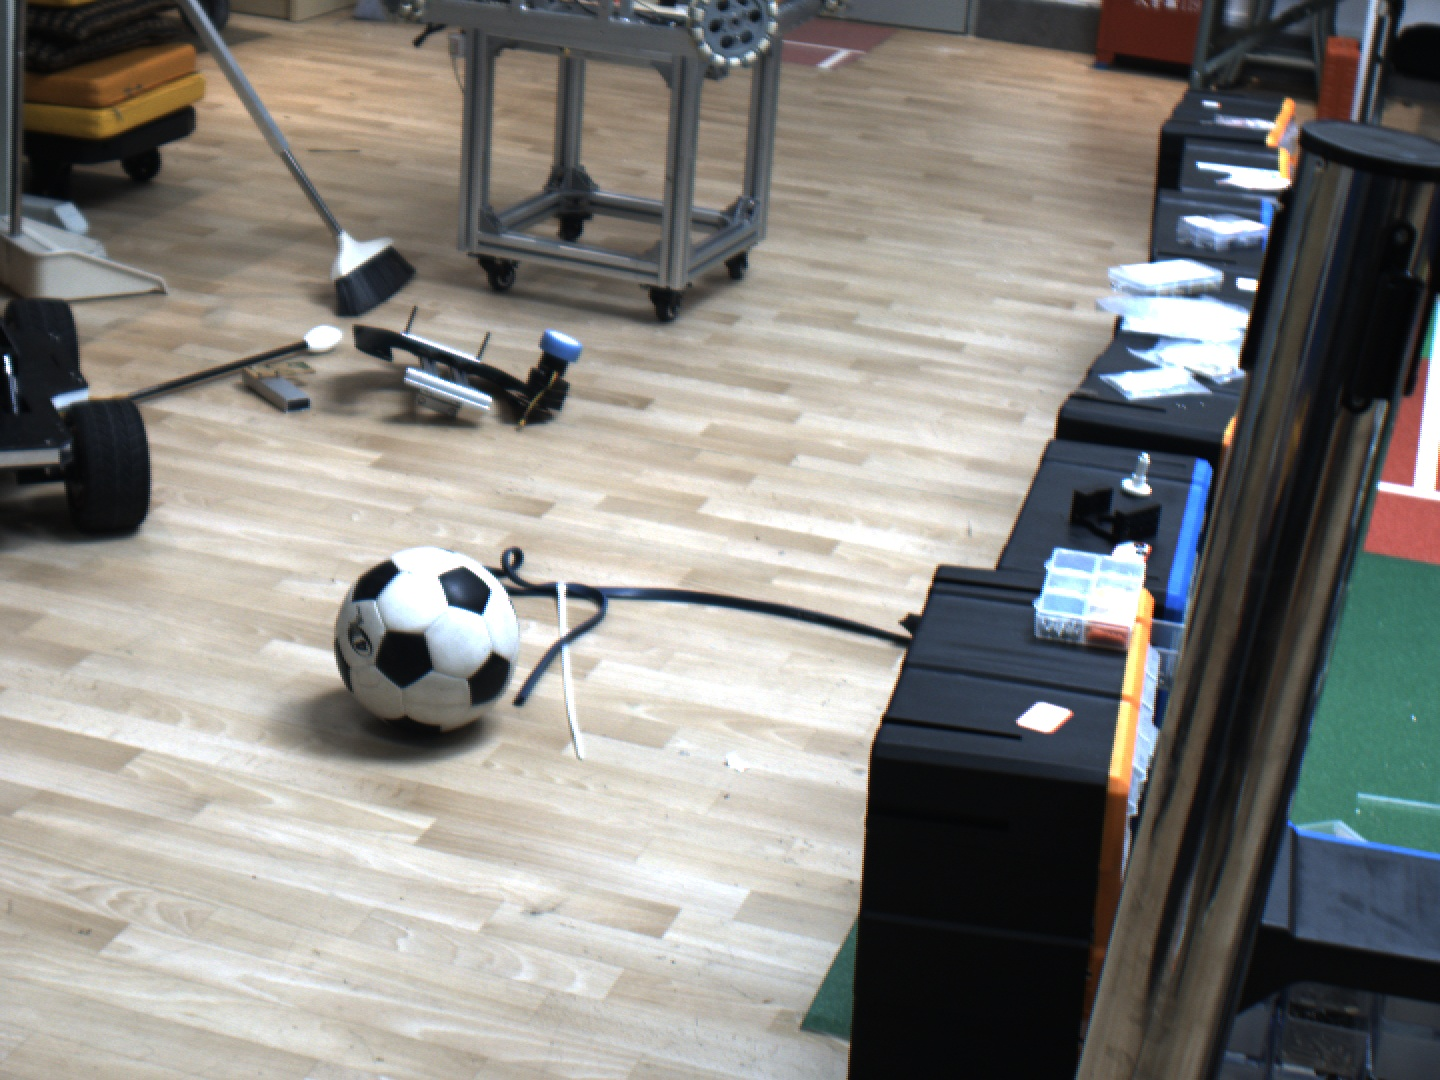ball: (324, 540, 531, 741)
